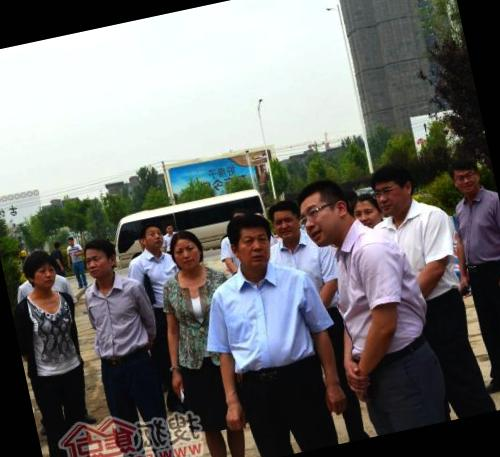no_helmet: (295, 172, 361, 248), (221, 204, 279, 278), (370, 158, 420, 218), (164, 224, 209, 278), (78, 231, 122, 285), (264, 194, 306, 248), (445, 149, 488, 200), (18, 246, 61, 294), (350, 182, 386, 232), (132, 216, 166, 254)
